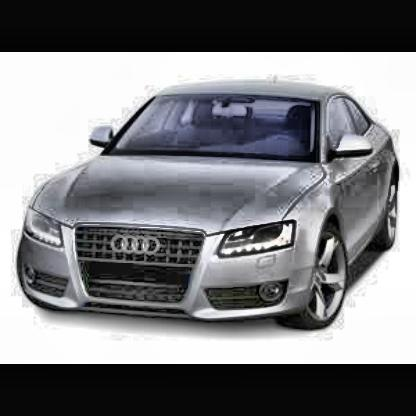Audi S5 Coupe 2012: (4, 62, 416, 364)
